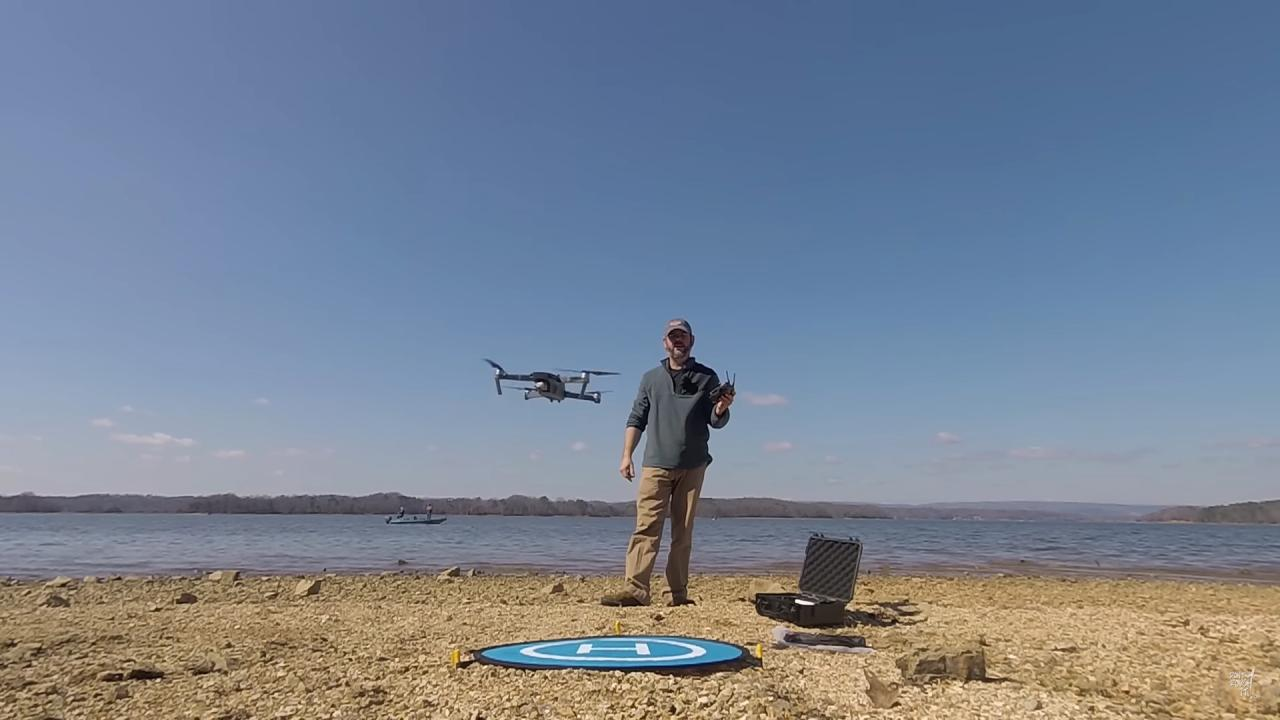Drone: (470, 350, 630, 414)
